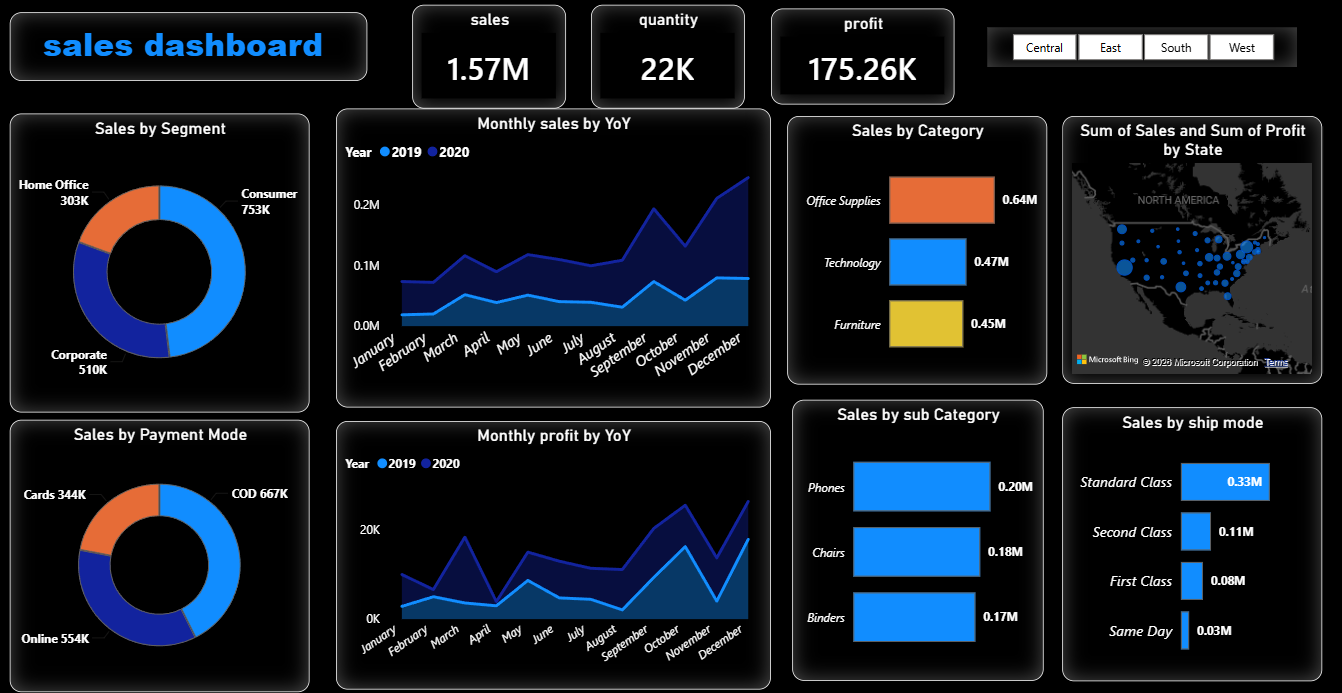

What the dashboard file says about the page in this screenshot:
{"tool":"powerbi","page":{"name":"Page 1","canvas":[1410,720],"ordinal":0},"visuals":[{"type":"clusteredBarChart","title":" Sales by Category","fields":{"Category":["SuperStore_Sales_Dataset.Category"],"Y":["Sum(SuperStore_Sales_Dataset.Sales)"]},"box":[815.9,123,266.4,275.4],"z":0},{"type":"clusteredBarChart","title":" Sales by sub Category","fields":{"Category":["SuperStore_Sales_Dataset.Sub-Category"],"Y":["Sum(SuperStore_Sales_Dataset.Sales)"]},"box":[821.1,413.7,257.5,288.2],"z":1000},{"type":"clusteredBarChart","title":" Sales by ship mode","fields":{"Category":["SuperStore_Sales_Dataset.Ship Mode"],"Y":["Sum(SuperStore_Sales_Dataset.Sales)"]},"box":[1097.7,421.4,266.4,280.5],"z":2000},{"type":"stackedAreaChart","title":"Monthly sales by YoY","fields":{"Category":["SuperStore_Sales_Dataset.Order Date.Variation.Date Hierarchy.Month","SuperStore_Sales_Dataset.Order Date.Variation.Date Hierarchy.Day"],"Y":["Sum(SuperStore_Sales_Dataset.Sales)"],"Series":["SuperStore_Sales_Dataset.Order Date.Variation.Date Hierarchy.Year"]},"box":[353.5,115.3,445.7,306.1],"z":3000},{"type":"stackedAreaChart","title":"Monthly profit by YoY","fields":{"Category":["SuperStore_Sales_Dataset.Order Date.Variation.Date Hierarchy.Month","SuperStore_Sales_Dataset.Order Date.Variation.Date Hierarchy.Day"],"Series":["SuperStore_Sales_Dataset.Order Date.Variation.Date Hierarchy.Year"],"Y":["Sum(SuperStore_Sales_Dataset.Profit)"]},"box":[353.5,435.5,445.7,275.4],"z":4000},{"type":"map","fields":{"Category":["SuperStore_Sales_Dataset.State"],"Size":["Sum(SuperStore_Sales_Dataset.Sales)"]},"box":[1097.7,123,266.4,274.1],"z":5000},{"type":"donutChart","title":"Sales by Segment","fields":{"Category":["SuperStore_Sales_Dataset.Segment"],"Y":["Sum(SuperStore_Sales_Dataset.Sales)"]},"box":[19.2,120.4,307.4,306.1],"z":6000},{"type":"donutChart","title":"Sales by Payment Mode","fields":{"Category":["SuperStore_Sales_Dataset.Payment Mode"],"Y":["Sum(SuperStore_Sales_Dataset.Sales)"]},"box":[19.2,434.2,307.4,279.2],"z":7000},{"type":"slicer","fields":{"Values":["SuperStore_Sales_Dataset.Region"]},"box":[1020.9,32,317.7,41],"z":8000},{"type":"textbox","box":[19.2,16.7,366.3,70.4],"z":9000},{"type":"cardVisual","title":"sales","fields":{"Data":["Sum(SuperStore_Sales_Dataset.Sales)"]},"box":[431.7,9,157.5,106.3],"z":10000},{"type":"cardVisual","title":"quantity ","fields":{"Data":["Sum(SuperStore_Sales_Dataset.Quantity)"]},"box":[614.8,9,157.5,106.3],"z":11000},{"type":"cardVisual","title":"profit","fields":{"Data":["Sum(SuperStore_Sales_Dataset.Profit)"]},"box":[799.3,12.8,188.3,98.6],"z":12000}]}

Visuals, with their boxes in screenshot pixels (x1, y1, x2, y2), scaled from the page's 1410x720 canvas onto the 1342x693 screenshot:
" Sales by Category" clusteredBarChart: (left=777, top=118, right=1030, bottom=383)
" Sales by sub Category" clusteredBarChart: (left=782, top=398, right=1027, bottom=676)
" Sales by ship mode" clusteredBarChart: (left=1045, top=406, right=1298, bottom=676)
"Monthly sales by YoY" stackedAreaChart: (left=336, top=111, right=761, bottom=406)
"Monthly profit by YoY" stackedAreaChart: (left=336, top=419, right=761, bottom=684)
map - SuperStore_Sales_Dataset.State x Sum(SuperStore_Sales_Dataset.Sales): (left=1045, top=118, right=1298, bottom=382)
"Sales by Segment" donutChart: (left=18, top=116, right=311, bottom=411)
"Sales by Payment Mode" donutChart: (left=18, top=418, right=311, bottom=687)
slicer - SuperStore_Sales_Dataset.Region: (left=972, top=31, right=1274, bottom=70)
textbox: (left=18, top=16, right=367, bottom=84)
"sales" cardVisual: (left=411, top=9, right=561, bottom=111)
"quantity " cardVisual: (left=585, top=9, right=735, bottom=111)
"profit" cardVisual: (left=761, top=12, right=940, bottom=107)
